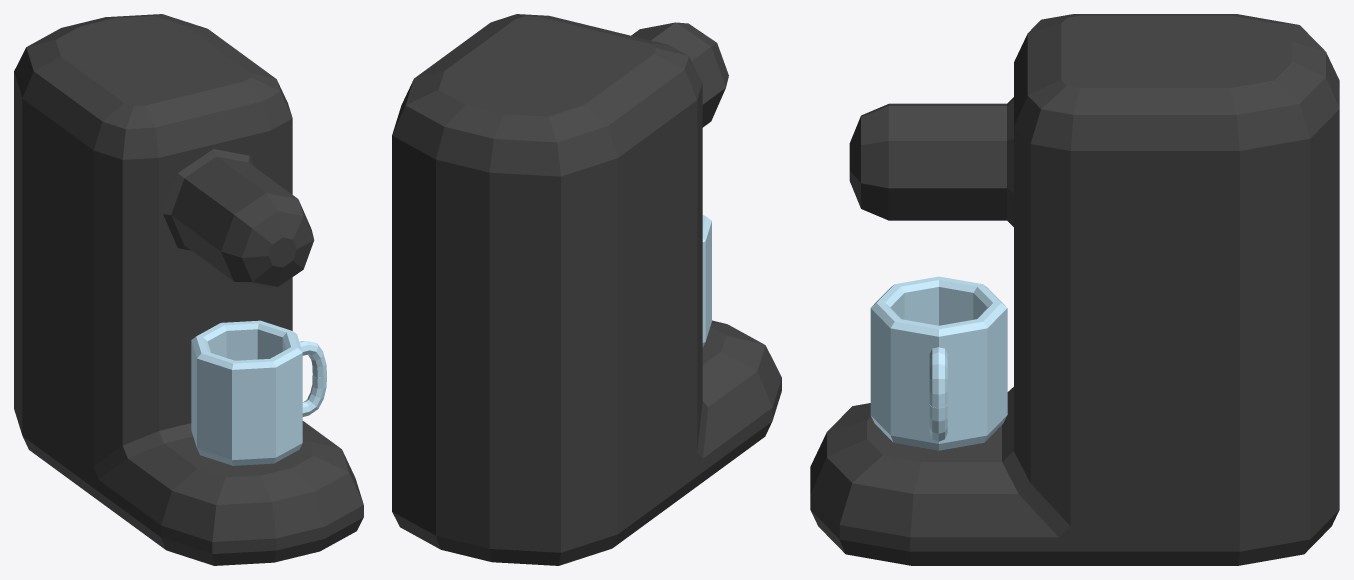
File: CoffeeMachine.fbx
The picture shows the model from 3 angles, left to right: view 1: azimuth 30°, elevation 25°; view 2: azimuth 150°, elevation 25°; view 3: azimuth 270°, elevation 25°; orthographic projection. The views are drawn at different scales.
Parts seen in each view (by area): view 1: CoffeeMachine; view 2: CoffeeMachine; view 3: CoffeeMachine.
Boxes of the visible parts, x1=… form: CoffeeMachine: x1=14, y1=14, x2=363, y2=565; CoffeeMachine: x1=392, y1=14, x2=781, y2=565; CoffeeMachine: x1=810, y1=14, x2=1339, y2=565.
Size of the model in its own units: 0.1572 by 0.3051 by 0.3126.
1 material, 1 textured.
